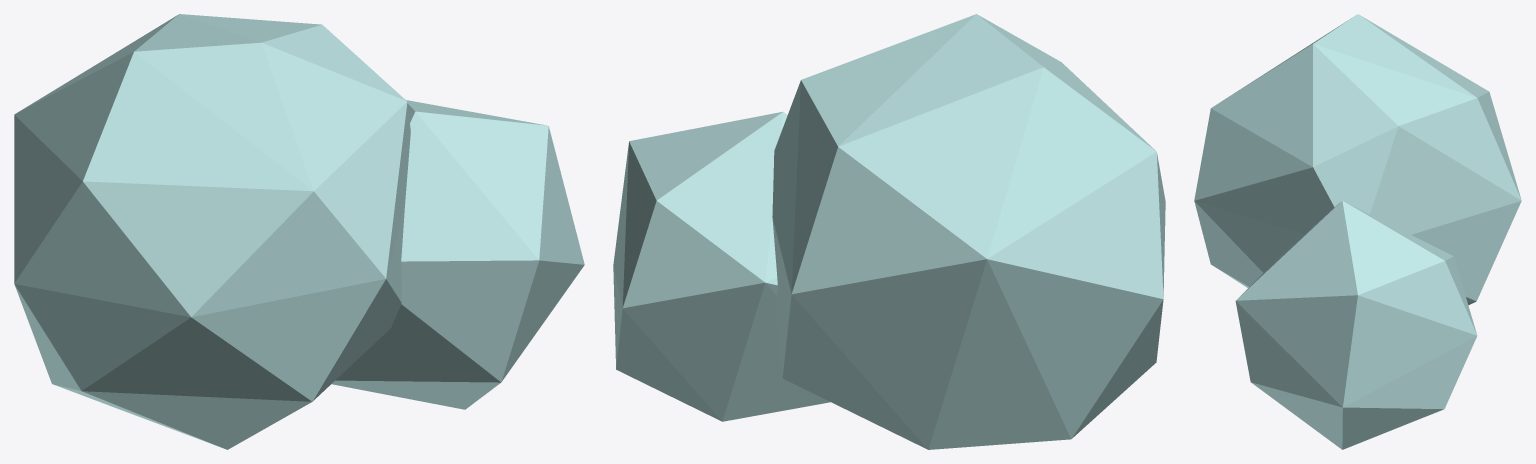
The model's file is cloud-016.glb.
3 renders of one model, left to right at view 1: azimuth 30°, elevation 25°; view 2: azimuth 150°, elevation 25°; view 3: azimuth 270°, elevation 25°, orthographic. The views are drawn at different scales.
Visible parts, largest first — view 1: cloud 5_39; view 2: cloud 5_39; view 3: cloud 5_39.
Boxes of the visible parts, x1,y1,x2,y2 form: cloud 5_39: (14, 14, 584, 449); cloud 5_39: (613, 14, 1165, 449); cloud 5_39: (1194, 14, 1521, 449).
Bounding box in the file's own units: 1.05 × 0.7801 × 0.7128.
